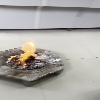fire: (7, 38, 37, 66)
